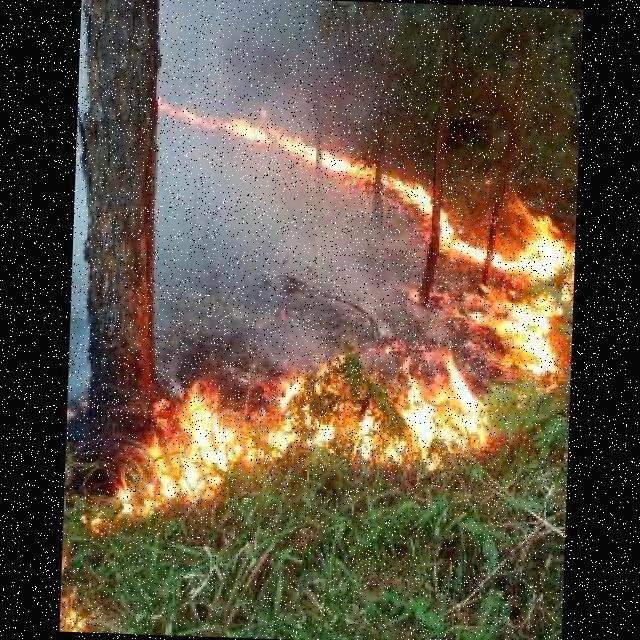Fire: (154, 97, 574, 279), (101, 373, 496, 533), (436, 284, 561, 382)
